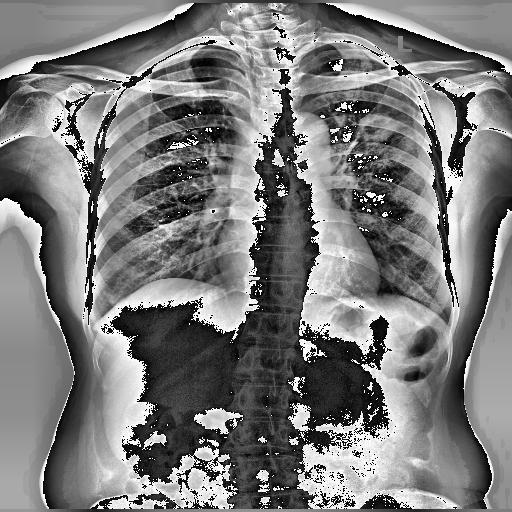0- Aortic enlargement: (270, 110, 331, 160)
13- Pulmonary fibrosis: (348, 136, 360, 150)
5- ILD: (361, 131, 416, 172)
7- Lung Opacity: (364, 136, 403, 172)
8- Nodule-Mass: (354, 113, 398, 143)
